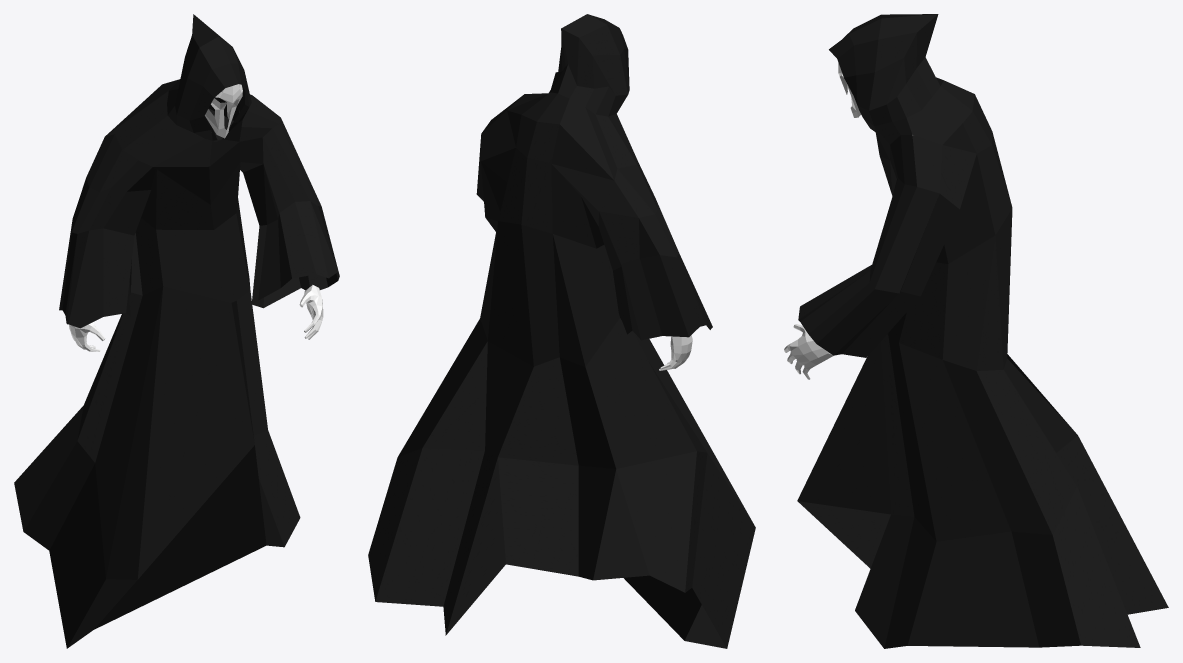
The model's file is ReaperWalk(20).obj.
3 views of the same model, side by side, from view 1: azimuth 30°, elevation 25°; view 2: azimuth 150°, elevation 25°; view 3: azimuth 270°, elevation 25° (orthographic). The views are drawn at different scales.
Visible parts, largest first — view 1: Plane003; view 2: Plane003; view 3: Plane003.
Part boxes in pixels (x1,y1,x2,y2): Plane003: (14, 14, 339, 648); Plane003: (368, 14, 755, 648); Plane003: (784, 14, 1168, 648).
Size of the model in its own units: 113 by 232 by 123.
